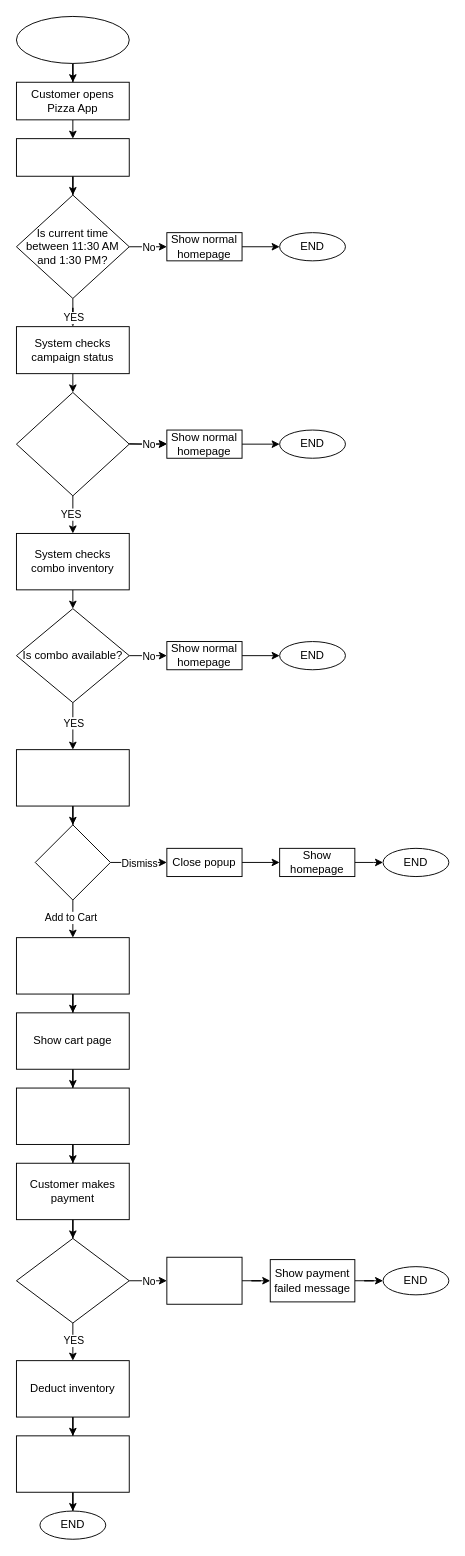
Image size: 465x1556. Some labels were removed from this diagram. Each missing label, with the centre of its shape:
"Create order confirmation" goes at (x=72, y=1463).
"Customer action?" goes at (x=72, y=862).
"Customer proceeds to checkout" goes at (x=72, y=1115).
"Display Golden Hour Combo popup" goes at (x=72, y=777).
"Is Golden Hour campaign active?" goes at (x=72, y=444).
"Payment successful?" goes at (x=72, y=1280).
"Release reserved inventory" goes at (x=204, y=1280).
"Start" goes at (x=72, y=39).
"System checks current time" goes at (x=72, y=157).
"System reserves inventory" goes at (x=72, y=965).
